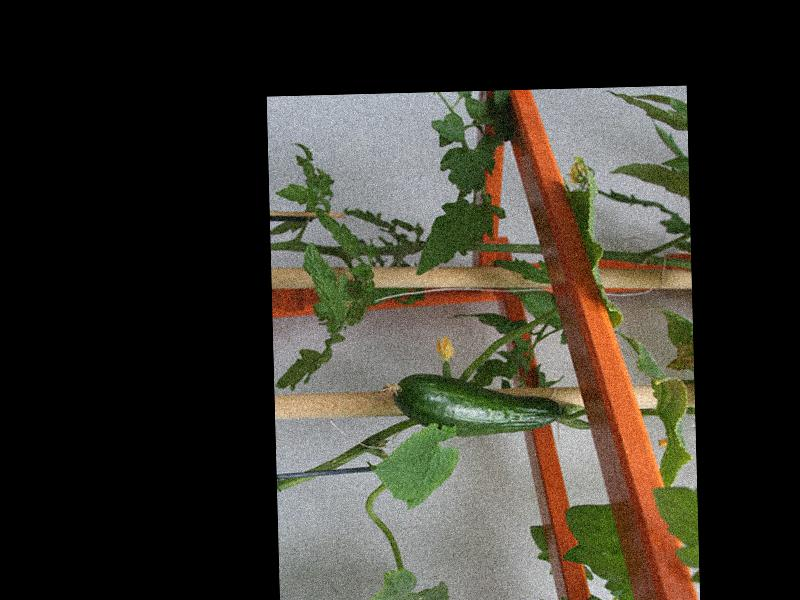Cucumber: (380, 370, 560, 437)
